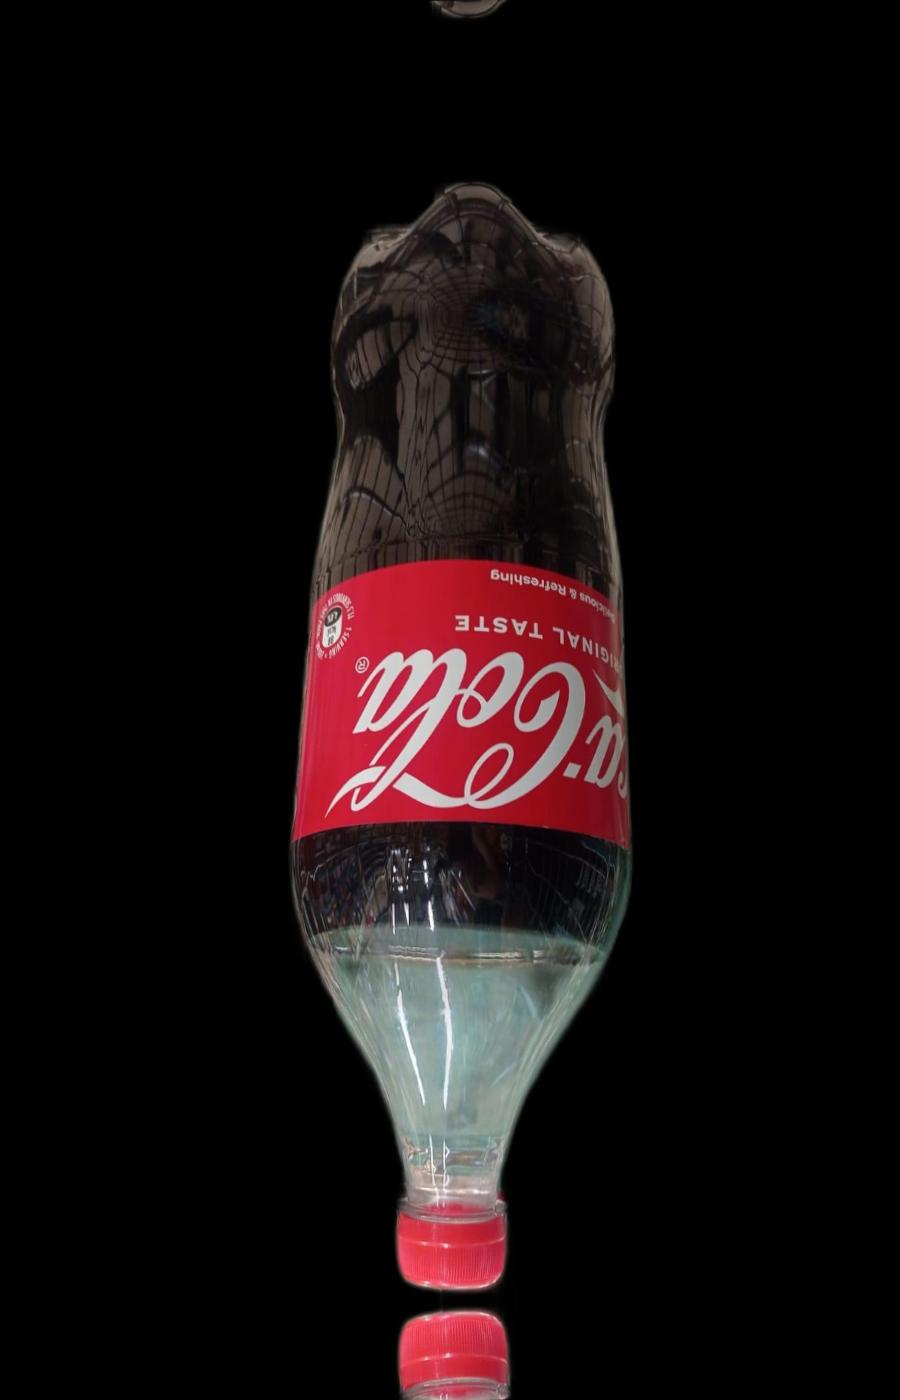Coca-Cola-1 liter-: (280, 176, 637, 1290)
